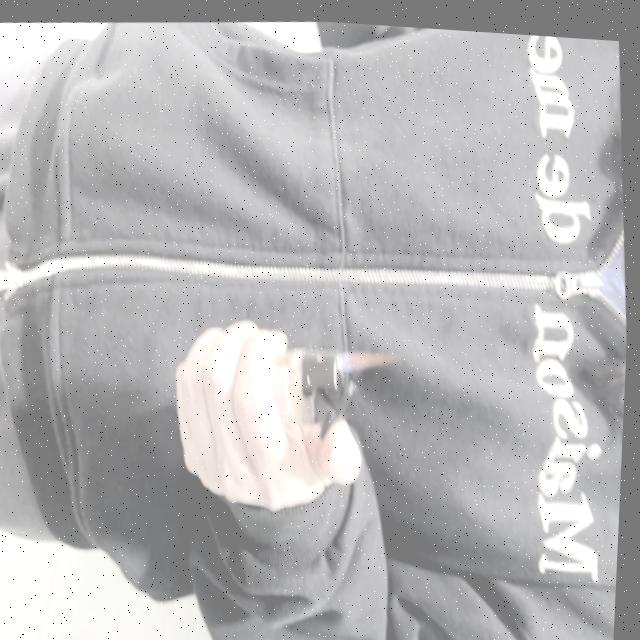Fire: (341, 340, 405, 367)
